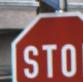Stop sign: (0, 0, 82, 81)
